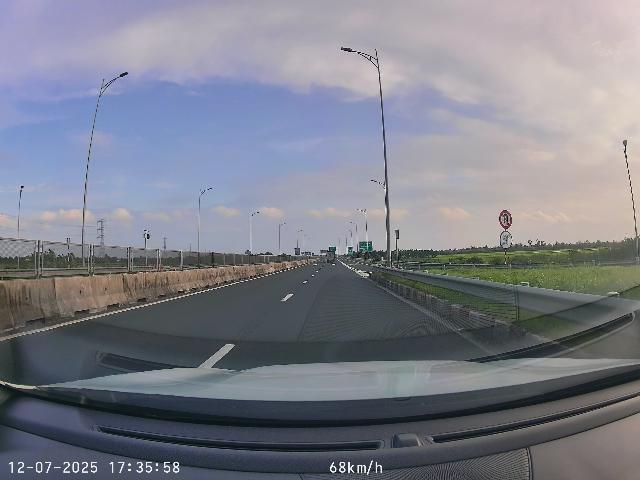124a-cam-quay-dau-xe: (499, 210, 512, 229)
134-het-han-che-toc-do-toi-da: (499, 231, 513, 250)
